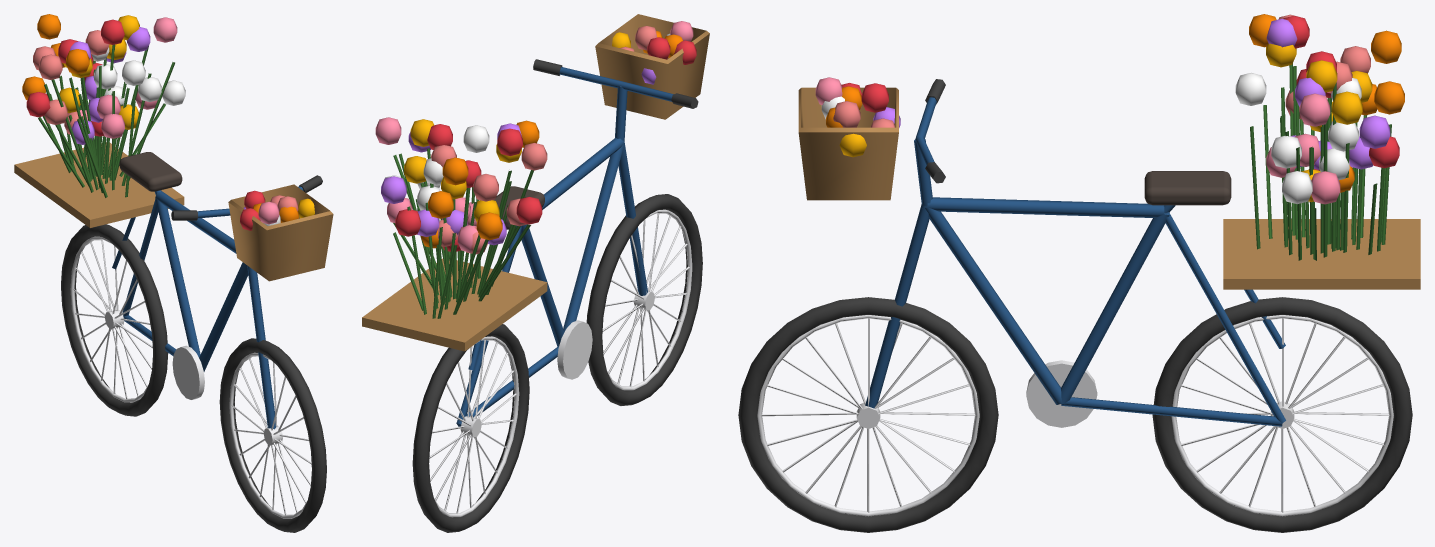
Rendered from bike.glb.
3 renders of one model, left to right at view 1: azimuth 30°, elevation 25°; view 2: azimuth 150°, elevation 25°; view 3: azimuth 270°, elevation 25°, orthographic. The views are drawn at different scales.
Visible parts, largest first — view 1: bike; view 2: bike; view 3: bike.
Part boxes in pixels (x1,y1,x2,y2): bike: (14, 14, 333, 532); bike: (362, 14, 709, 532); bike: (738, 14, 1420, 532).
Bounding box in the file's own units: 0.5848 × 1.37 × 1.73.
